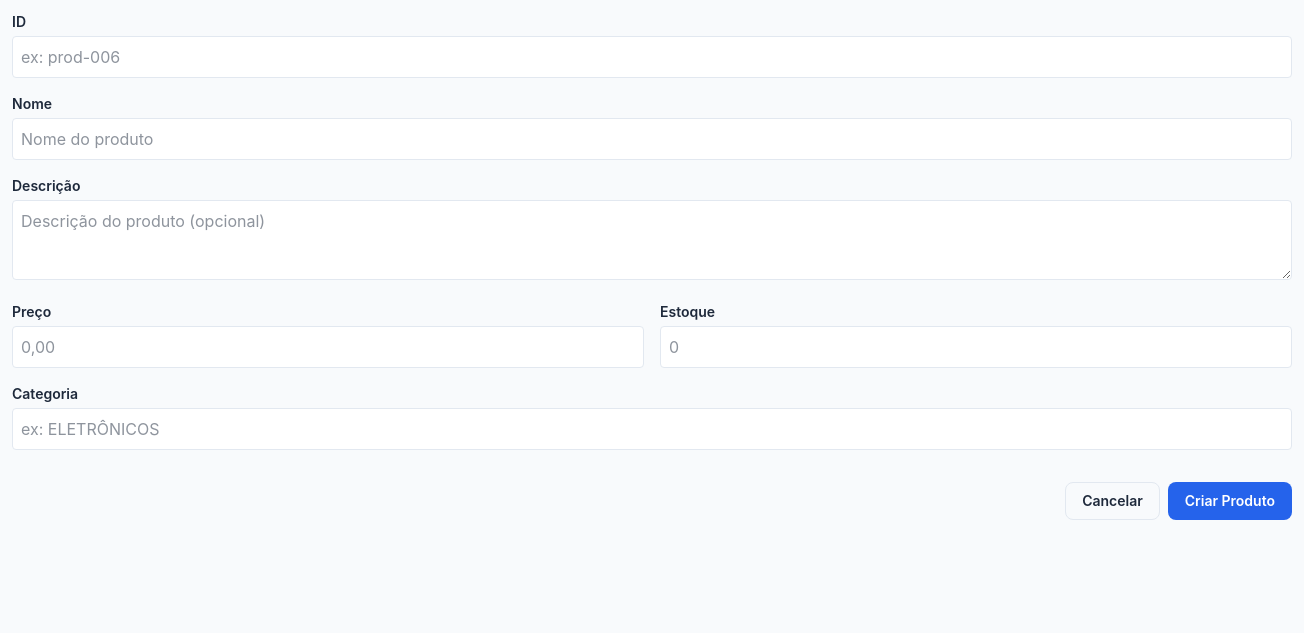
ProductForm › validação › deve exibir erro quando o nome tem menos de 3 caracteres
Type "ab" into the field labelled "Nome" at x=652, y=139, box [12,118,1292,160]
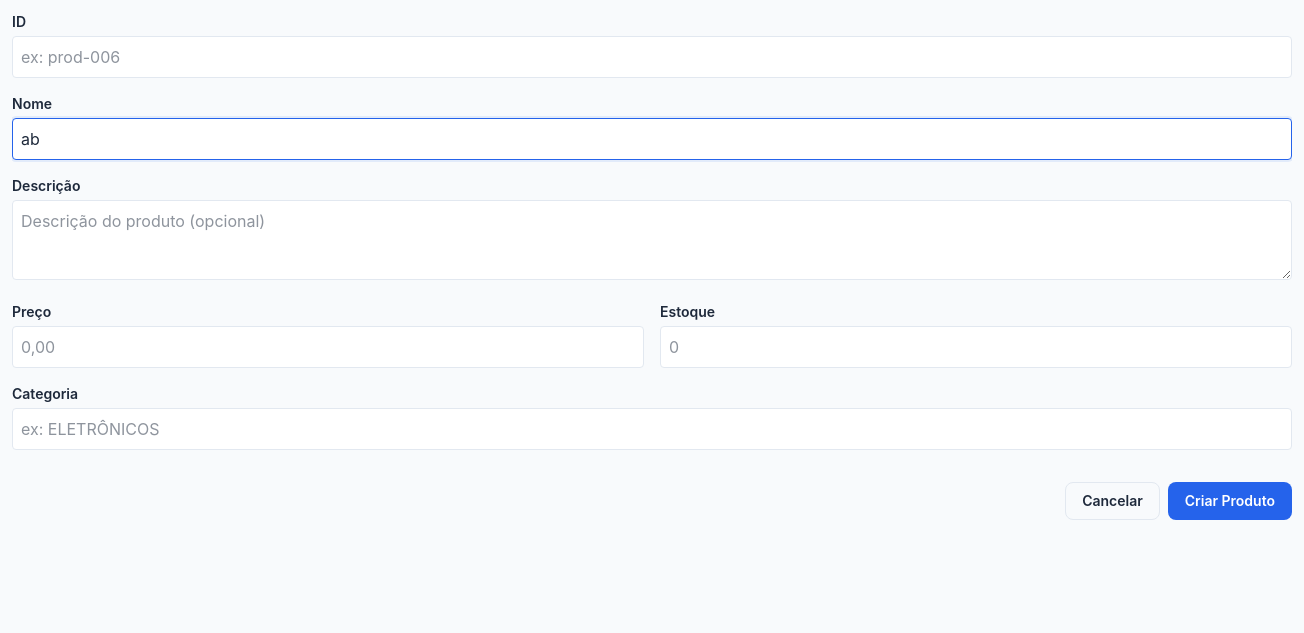
Click the button "Criar Produto" at x=1230, y=501, box [1168,482,1292,520]
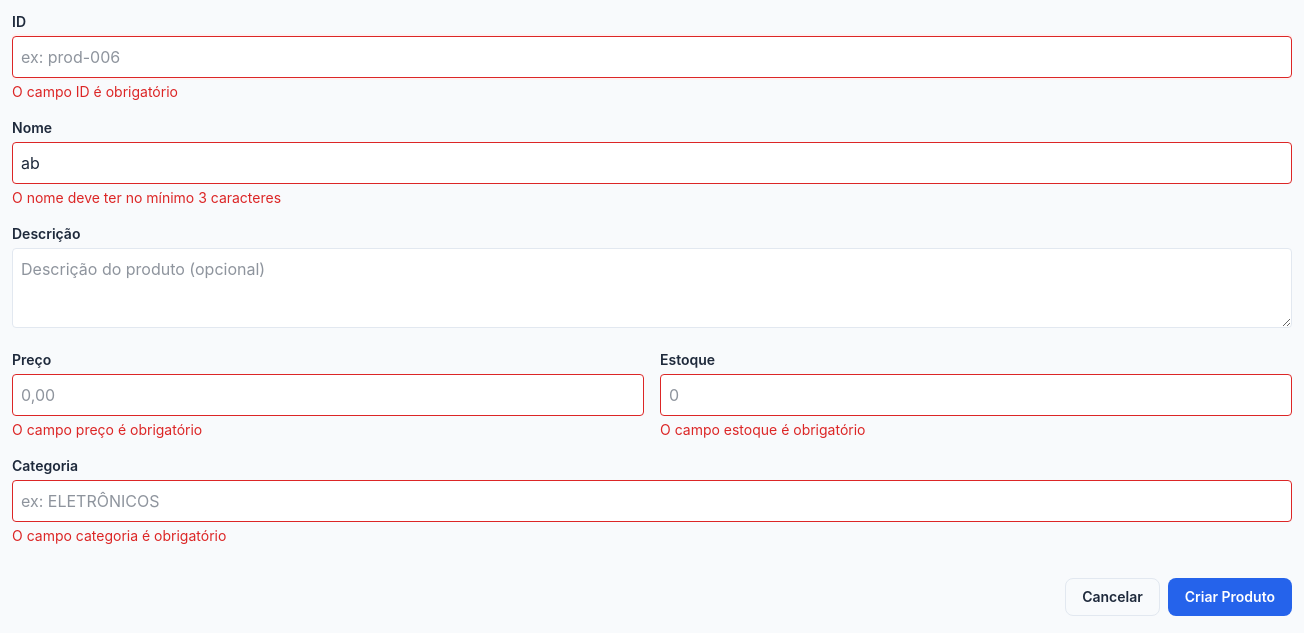
Expected: the text "O nome deve ter no mínimo 3 caracteres" is shown, [12,189,281,206]
